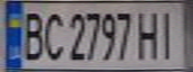2: (63, 8, 87, 61)
7: (115, 8, 136, 61), (81, 8, 100, 62)
9: (100, 8, 118, 61)
B: (18, 7, 48, 62)
C: (39, 8, 66, 62)
H: (136, 7, 163, 61)
I: (154, 7, 184, 60)
